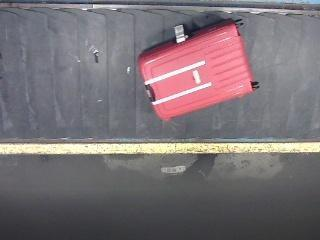Suitcase: (138, 20, 259, 121)
